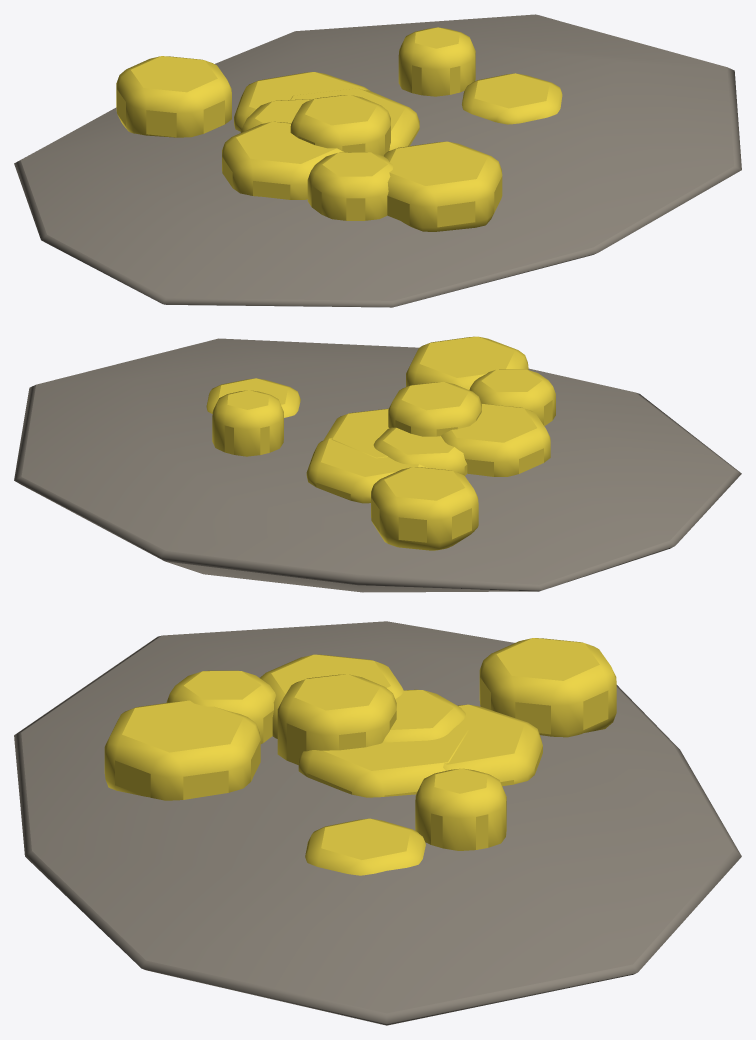
Rendered from schmutz_schwefel_2.fbx.
3 renders of one model, top to bottom at view 1: azimuth 30°, elevation 25°; view 2: azimuth 150°, elevation 25°; view 3: azimuth 270°, elevation 25°, orthographic. The views are drawn at different scales.
Parts seen in each view (by area): view 1: schmutz_schwefel_2_Koerper; view 2: schmutz_schwefel_2_Koerper; view 3: schmutz_schwefel_2_Koerper.
Boxes of the visible parts, x1=… form: schmutz_schwefel_2_Koerper: x1=14, y1=14, x2=741, y2=307; schmutz_schwefel_2_Koerper: x1=14, y1=336, x2=741, y2=592; schmutz_schwefel_2_Koerper: x1=14, y1=621, x2=741, y2=1025.
Size of the model in its own units: 1.11 by 0.1754 by 0.8522.
